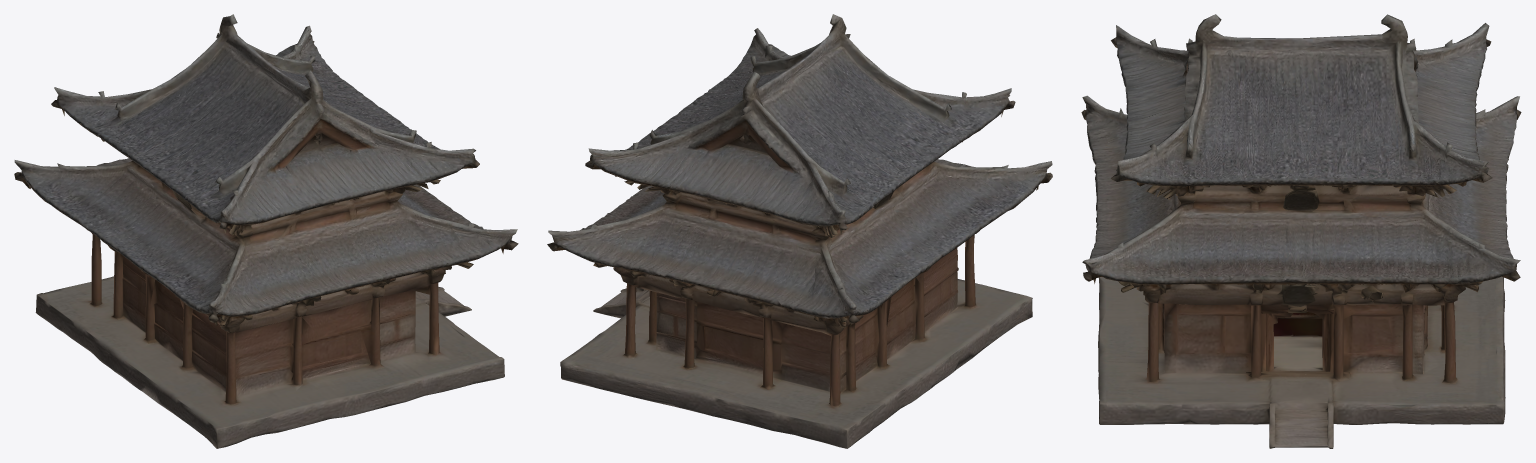
The model's file is building-zhenguosi.glb.
The picture shows the model from 3 angles, left to right: view 1: azimuth 30°, elevation 25°; view 2: azimuth 150°, elevation 25°; view 3: azimuth 270°, elevation 25°; orthographic projection. The views are drawn at different scales.
Visible parts, largest first — view 1: node_2fd4bc81-565a-45b5-ba20-58be510ce18a; view 2: node_2fd4bc81-565a-45b5-ba20-58be510ce18a; view 3: node_2fd4bc81-565a-45b5-ba20-58be510ce18a.
Boxes of the visible parts, x1,y1,x2,y2 form: node_2fd4bc81-565a-45b5-ba20-58be510ce18a: [14, 14, 518, 448]; node_2fd4bc81-565a-45b5-ba20-58be510ce18a: [547, 14, 1052, 448]; node_2fd4bc81-565a-45b5-ba20-58be510ce18a: [1081, 14, 1521, 448].
Size of the model in its own units: 1 by 0.852 by 0.9947.
1 material, 1 textured.
